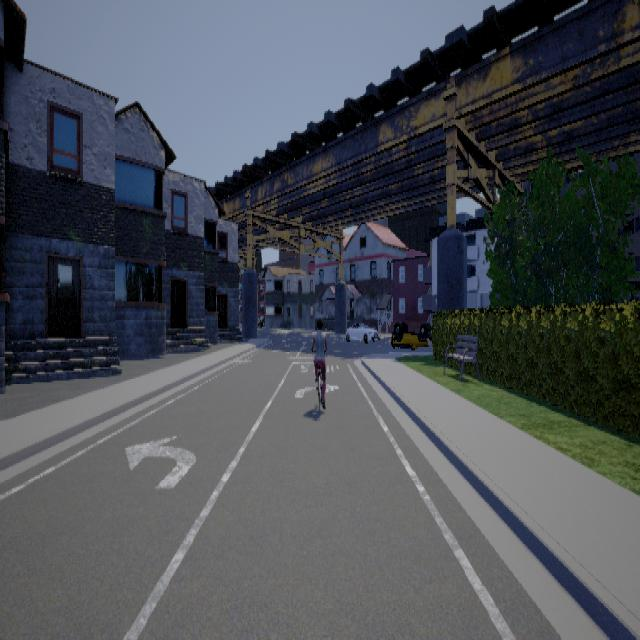bike: (306, 323, 334, 423)
vehicle: (390, 320, 432, 349), (344, 322, 379, 342)
